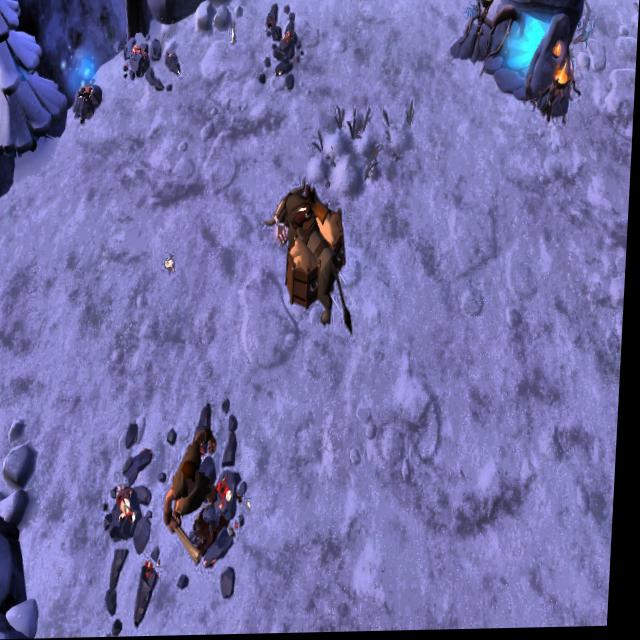enemy_factionKeeper: (170, 426, 226, 567)
